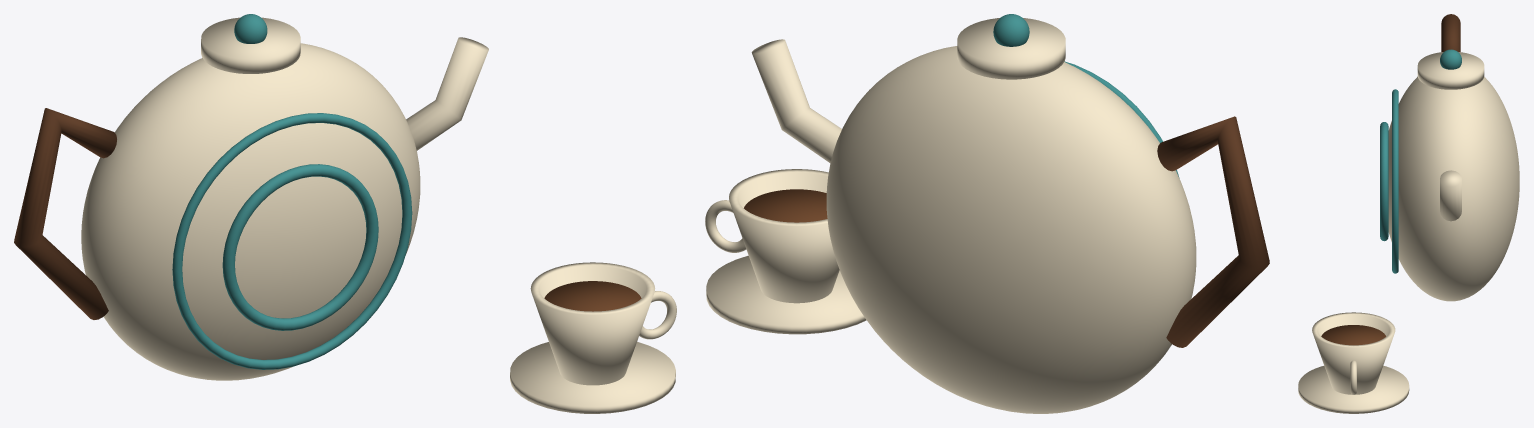
The model's file is tea-set.glb.
The picture shows the model from 3 angles, left to right: view 1: azimuth 30°, elevation 25°; view 2: azimuth 150°, elevation 25°; view 3: azimuth 270°, elevation 25°; orthographic projection. The views are drawn at different scales.
Visible parts, largest first — view 1: part0, part3, part1, part6, part9; view 2: part0, part3, part6, part9, part1; view 3: part0, part3, part1, part9, part6.
Boxes of the visible parts, box(x1,y1,x2,y2) form: part0: box(81, 43, 420, 380); part3: box(201, 17, 676, 413); part1: box(172, 14, 412, 369); part6: box(14, 108, 116, 319); part9: box(544, 281, 641, 311); part0: box(826, 46, 1196, 413); part3: box(705, 18, 1065, 334); part6: box(1157, 116, 1269, 347); part9: box(744, 189, 827, 222); part1: box(993, 14, 1179, 178); part0: box(1388, 76, 1519, 301); part3: box(1298, 52, 1484, 413); part1: box(1380, 49, 1461, 273); part9: box(1321, 325, 1385, 345); part6: box(1441, 14, 1460, 51).
Bounding box in the file's own units: 1 × 0.6113 × 0.4875.
